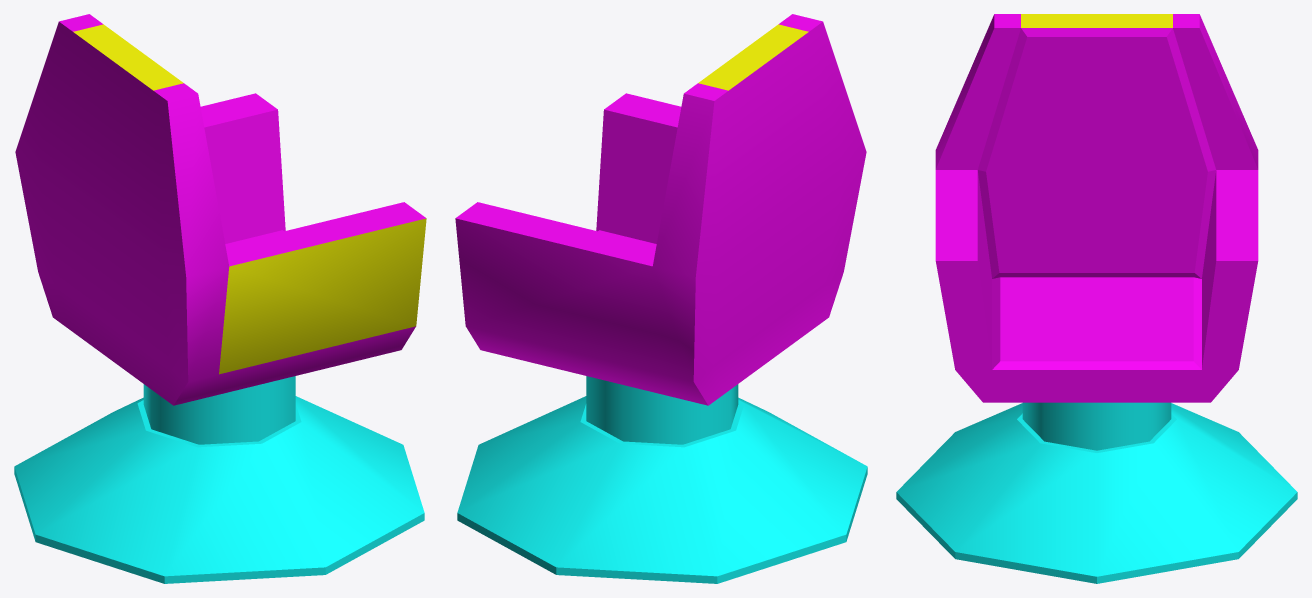
File: Chair.fbx
The picture shows the model from 3 angles, left to right: view 1: azimuth 30°, elevation 25°; view 2: azimuth 150°, elevation 25°; view 3: azimuth 270°, elevation 25°; orthographic projection. The views are drawn at different scales.
Visible parts, largest first — view 1: Box002, Cylinder001; view 2: Box002, Cylinder001; view 3: Box002, Cylinder001.
Part boxes in pixels (x1,y1,x2,y2): Box002: (15,14,426,405); Cylinder001: (14,376,424,583); Box002: (455,14,866,405); Cylinder001: (457,376,867,583); Box002: (935,14,1258,402); Cylinder001: (896,402,1297,583).
Size of the model in its own units: 19.69 by 23.62 by 19.69.
